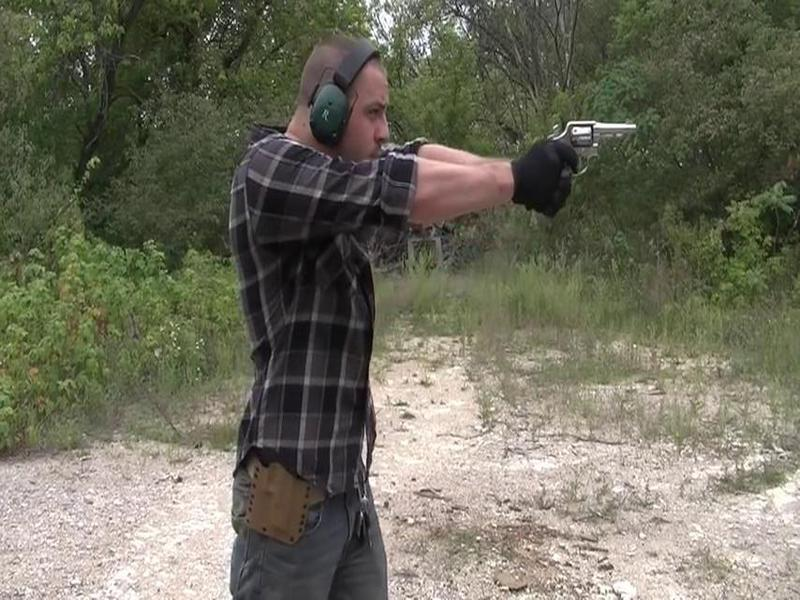Revolver: (527, 113, 640, 190)
